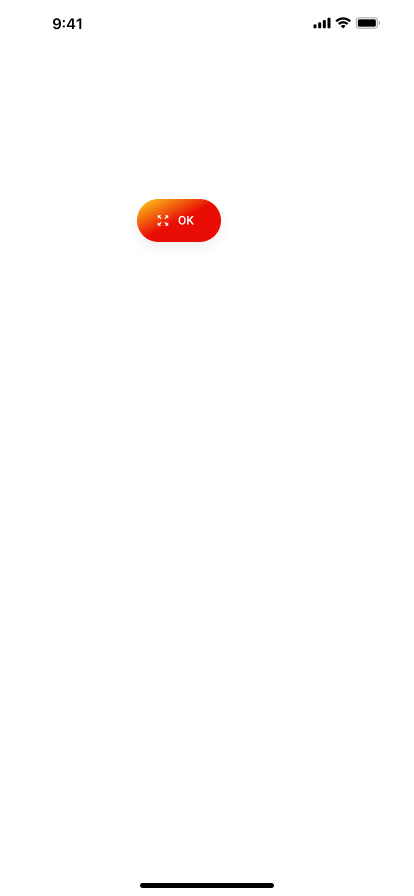Buttons: (122, 190, 236, 263)
Home Indicator: (0, 862, 414, 896)
Status Bar: (0, 0, 414, 44)
